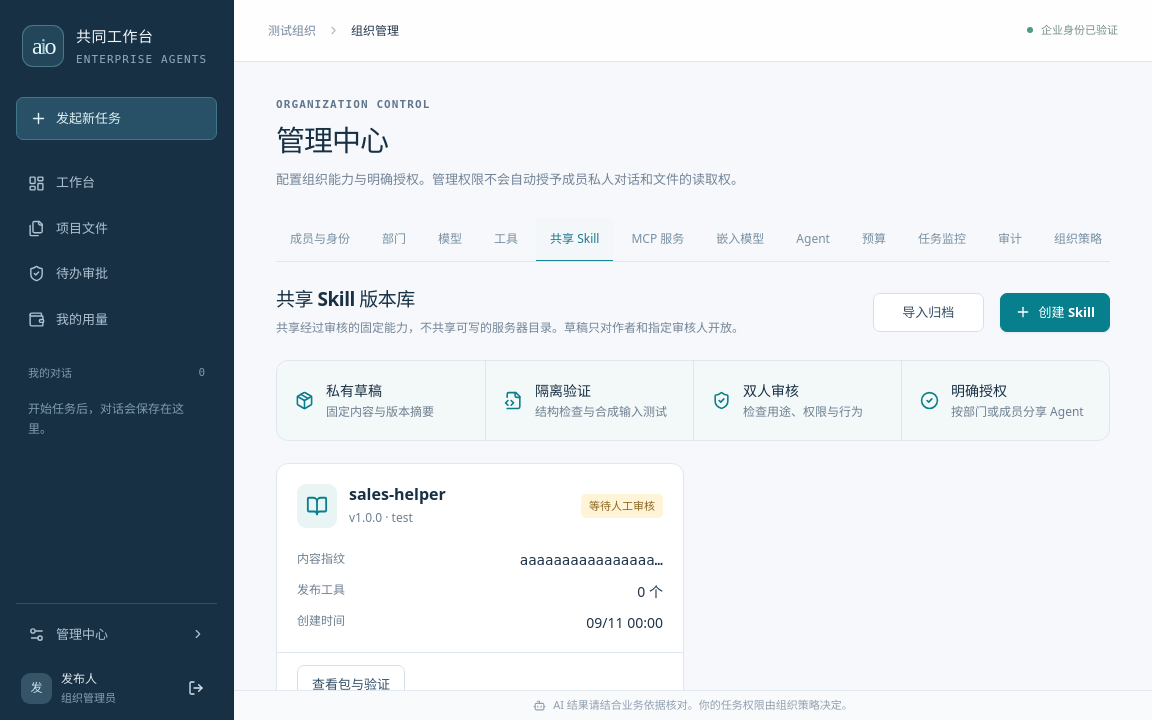
Scenario: never presents unconfirmed cleanup as publishable
Click the button "查看包与验证" at [351, 684], box x1=297 y1=665 x2=405 y2=704
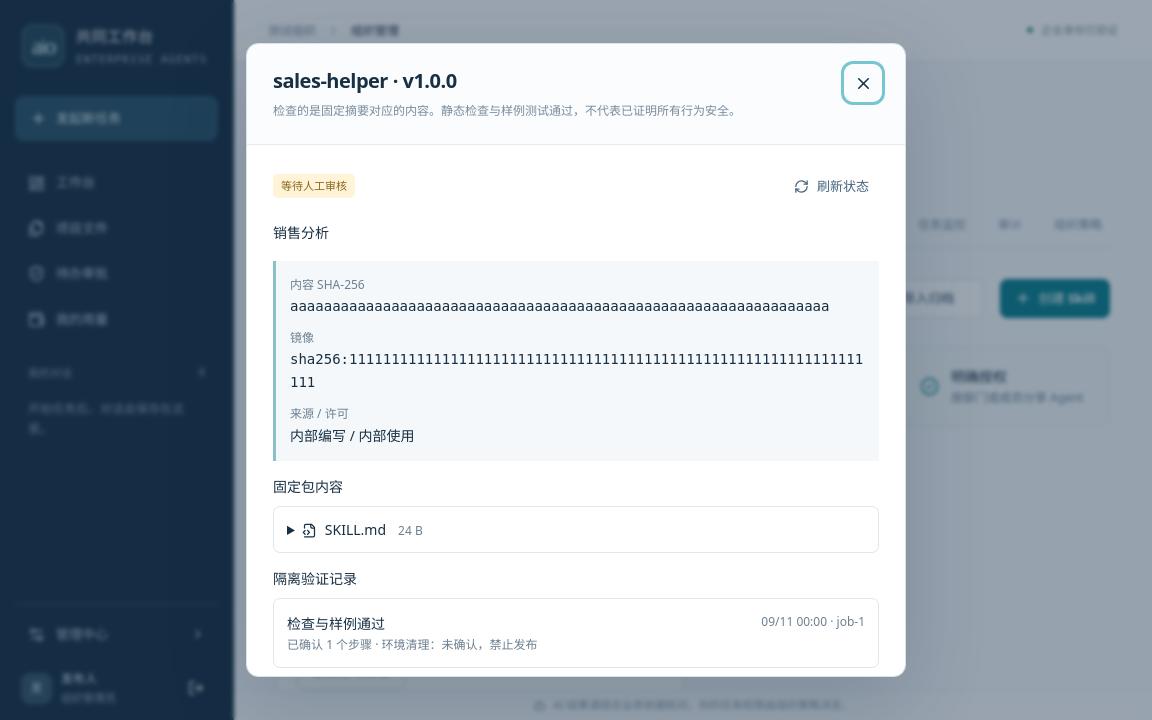
Now the text "已确认 1 个步骤 · 环境清理：未确认，禁止发布" is shown, box x1=287 y1=636 x2=538 y2=653
